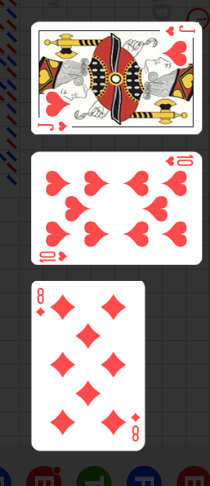10H: (164, 153, 196, 168), (39, 248, 70, 262)
8D: (130, 410, 142, 442)
